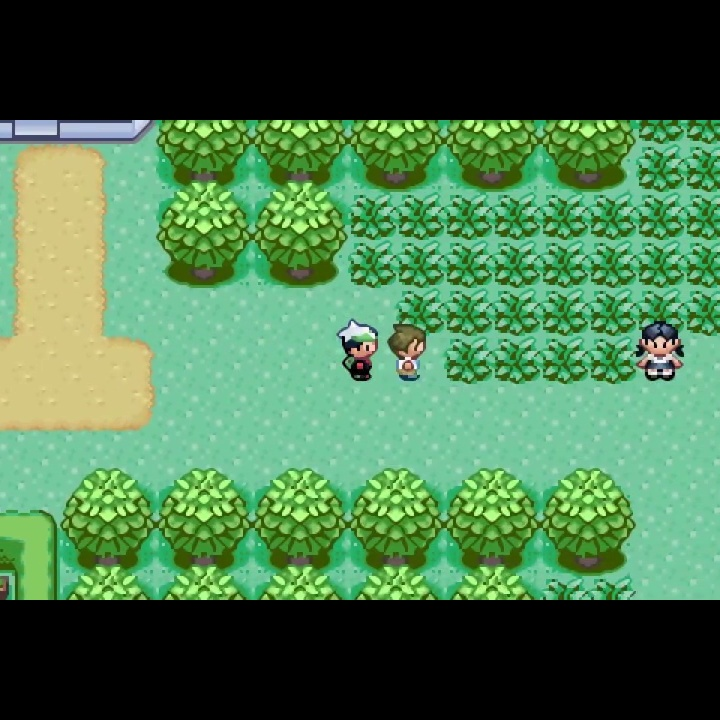grass: (346, 189, 397, 242), (443, 335, 494, 386), (347, 241, 397, 293), (492, 240, 542, 291), (492, 336, 541, 387), (636, 144, 685, 195), (443, 190, 492, 240), (636, 239, 685, 289), (540, 336, 588, 387), (397, 241, 445, 292), (540, 288, 589, 337), (541, 239, 589, 289), (397, 189, 444, 240), (540, 191, 588, 240), (589, 240, 637, 289), (445, 240, 492, 290), (492, 192, 540, 240), (588, 192, 636, 240), (636, 193, 685, 240), (589, 336, 635, 386), (492, 288, 540, 335), (443, 289, 492, 335), (397, 289, 444, 336), (589, 289, 636, 336), (637, 288, 684, 332), (685, 240, 720, 290), (684, 192, 720, 240), (686, 288, 720, 338), (685, 146, 720, 193), (588, 575, 638, 600), (637, 121, 686, 146), (540, 576, 588, 599), (686, 119, 720, 146)
npc: (633, 320, 687, 383), (333, 319, 380, 383), (383, 321, 428, 384)
wall: (539, 467, 637, 577), (156, 179, 254, 288), (58, 466, 157, 571), (253, 180, 347, 290), (251, 467, 348, 571), (348, 467, 444, 570), (156, 467, 251, 571), (444, 467, 540, 567), (540, 121, 637, 193), (445, 120, 539, 192), (349, 121, 445, 191), (156, 120, 253, 181), (253, 120, 349, 180), (250, 565, 351, 600), (444, 563, 539, 600), (348, 565, 445, 600), (58, 566, 156, 600), (156, 565, 251, 600)
